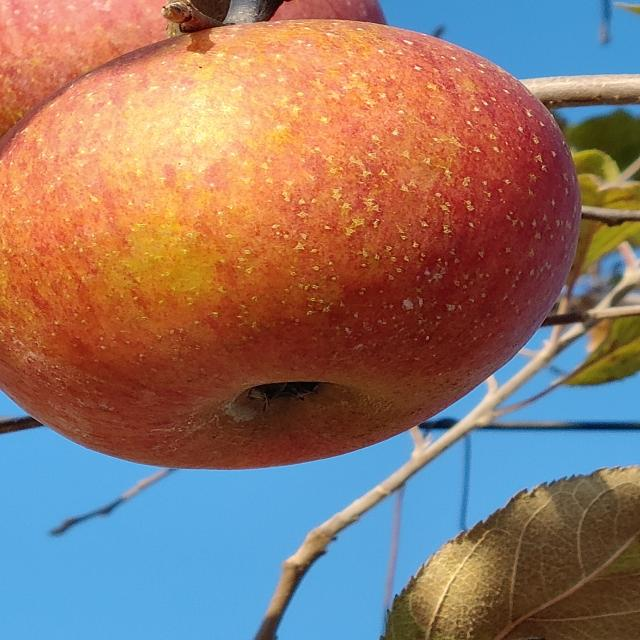fresh: (6, 12, 590, 477)
